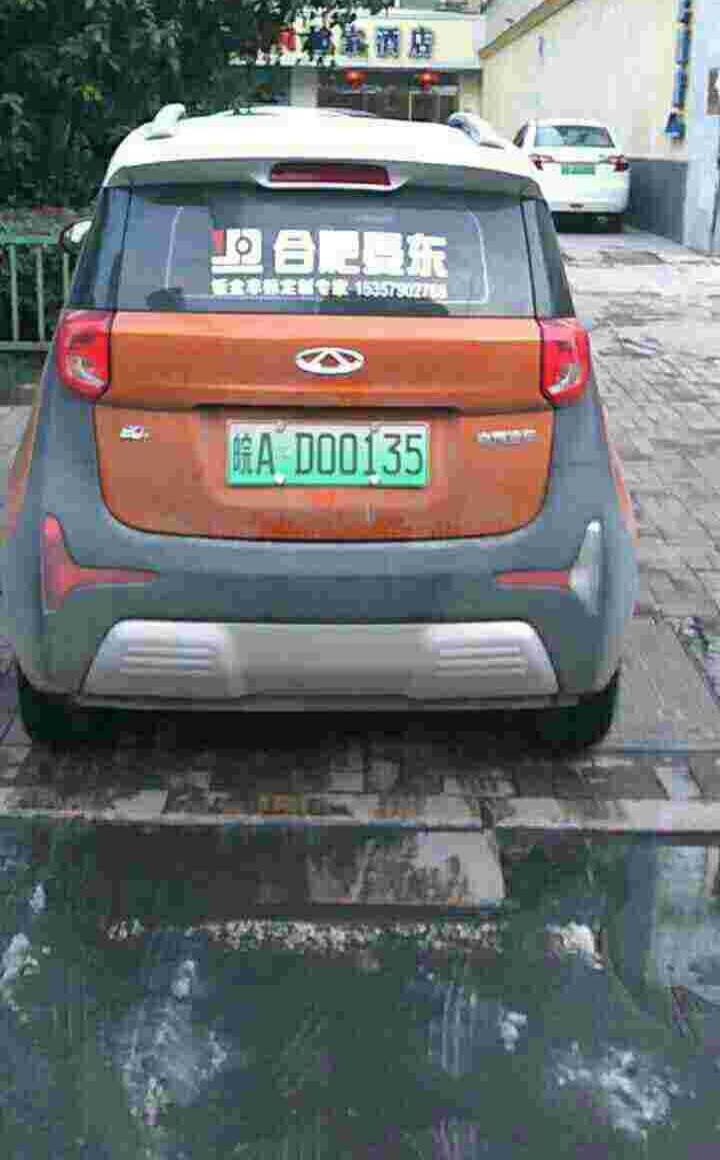car_green: (220, 415, 433, 484)
